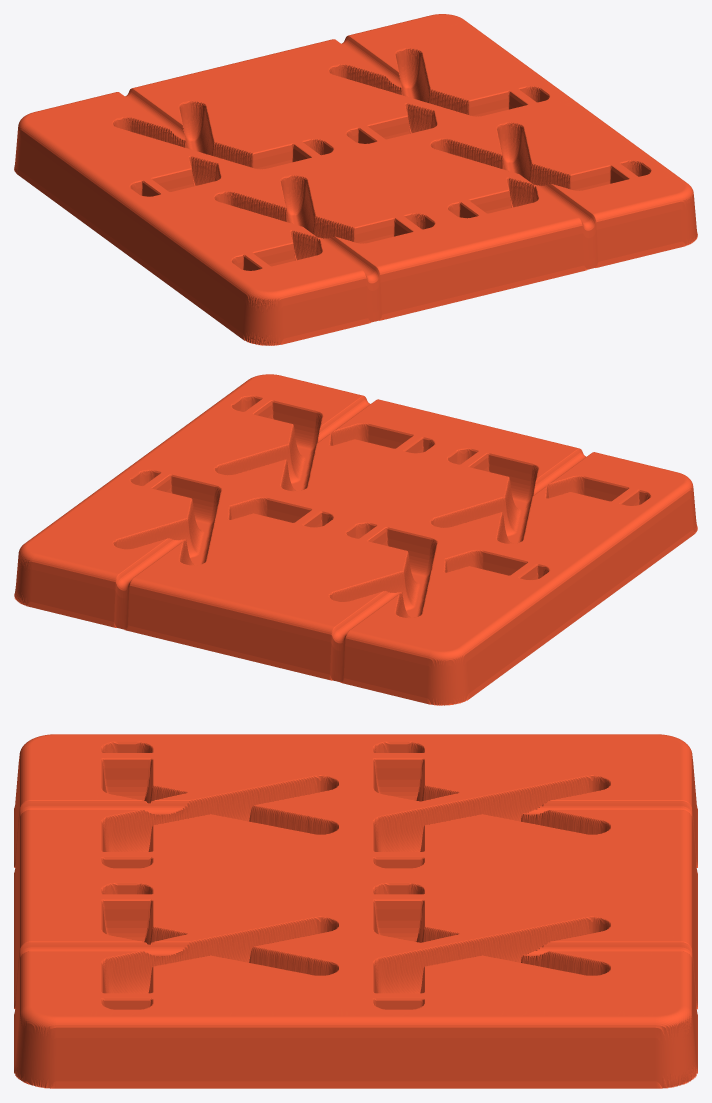
Rendered from mold.glb.
3 views of the same model, one above another, from view 1: azimuth 30°, elevation 25°; view 2: azimuth 150°, elevation 25°; view 3: azimuth 270°, elevation 25° (orthographic). The views are drawn at different scales.
Visible parts, largest first — view 1: geometry_0; view 2: geometry_0; view 3: geometry_0.
Part boxes in pixels (bbox=[...]): geometry_0: bbox=[14, 14, 697, 345]; geometry_0: bbox=[14, 374, 697, 705]; geometry_0: bbox=[14, 734, 697, 1088].
Size of the model in its own units: 0.1497 by 0.0155 by 0.1466.
